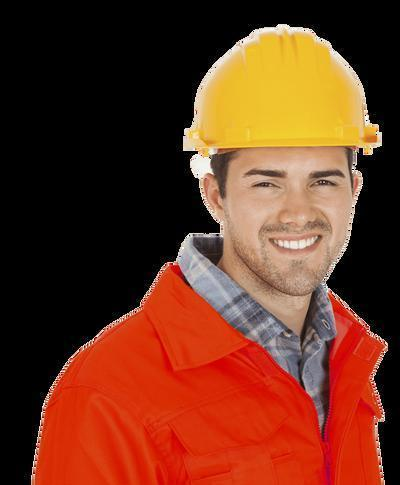helmet: (186, 28, 380, 152)
